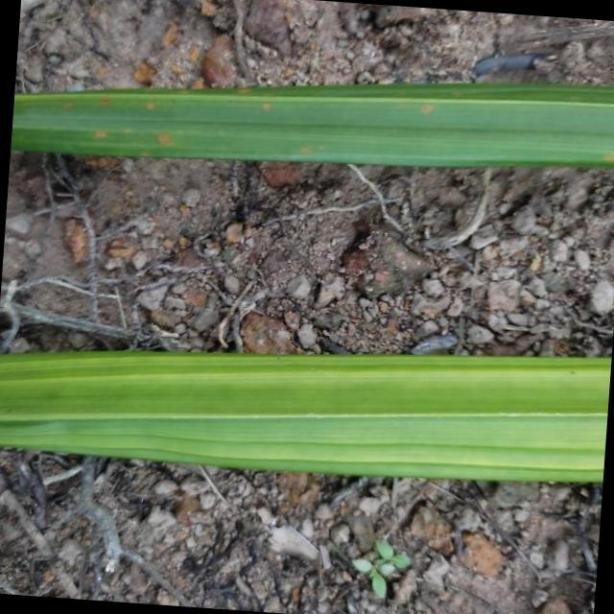nitrogen: (2, 355, 612, 489)
